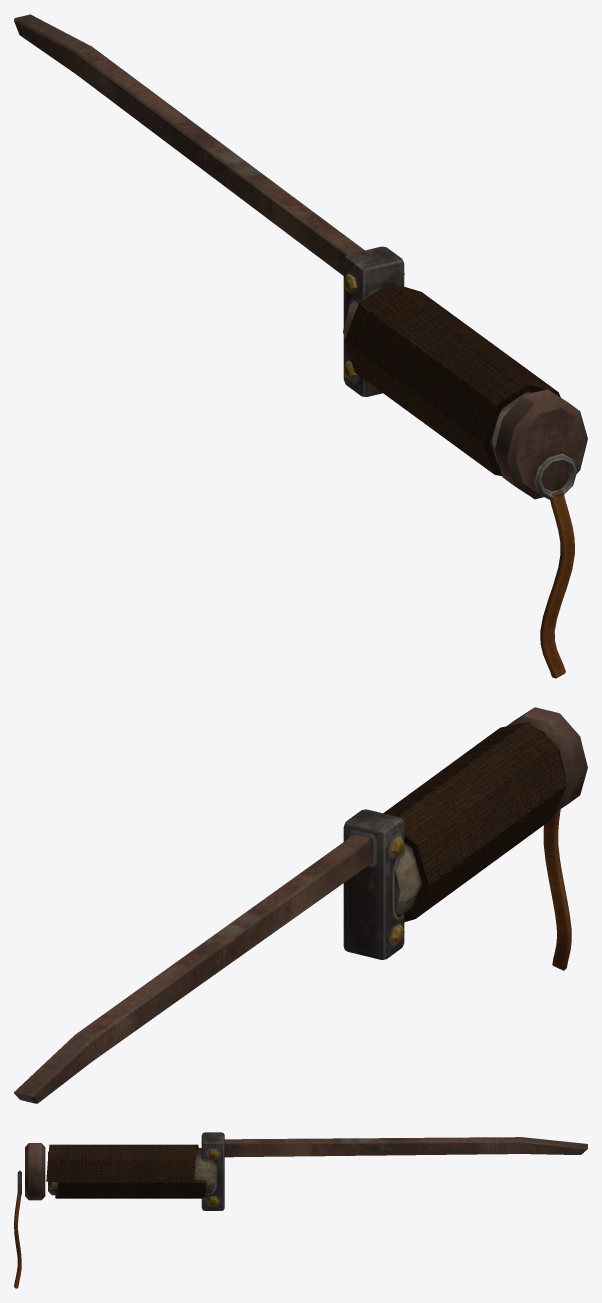
The model's file is tesak.glb.
The picture shows the model from 3 angles, top to bottom: view 1: azimuth 30°, elevation 25°; view 2: azimuth 150°, elevation 25°; view 3: azimuth 270°, elevation 25°; orthographic projection. The views are drawn at different scales.
Parts seen in each view (by area): view 1: tesak; view 2: tesak; view 3: tesak.
Part boxes in pixels (bbox=[...]): tesak: bbox=[14, 14, 587, 678]; tesak: bbox=[14, 707, 587, 1103]; tesak: bbox=[14, 1132, 587, 1288].
Bounding box in the file's own units: 0.0405 × 0.1308 × 0.448.
Materials: 1 (1 with a texture image).
